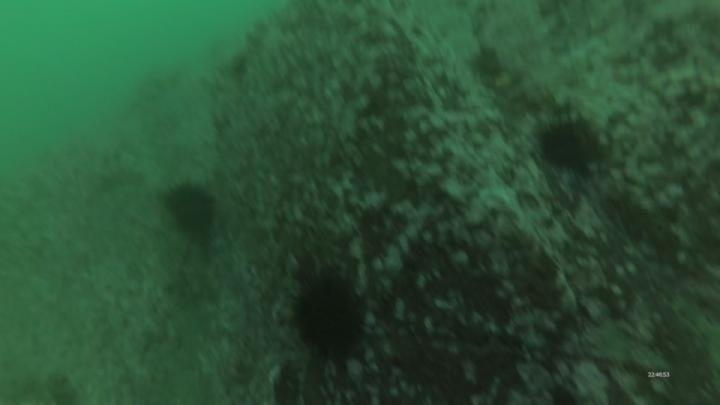echinus: (286, 271, 370, 365), (531, 111, 608, 177), (159, 177, 221, 242)
holothurian: (205, 55, 249, 132)
